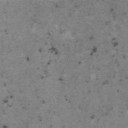oxide scale of temperature system: (78, 7, 128, 94), (26, 32, 69, 104), (2, 82, 14, 104), (54, 3, 59, 9), (88, 114, 94, 119), (2, 124, 8, 128), (4, 28, 8, 32)
